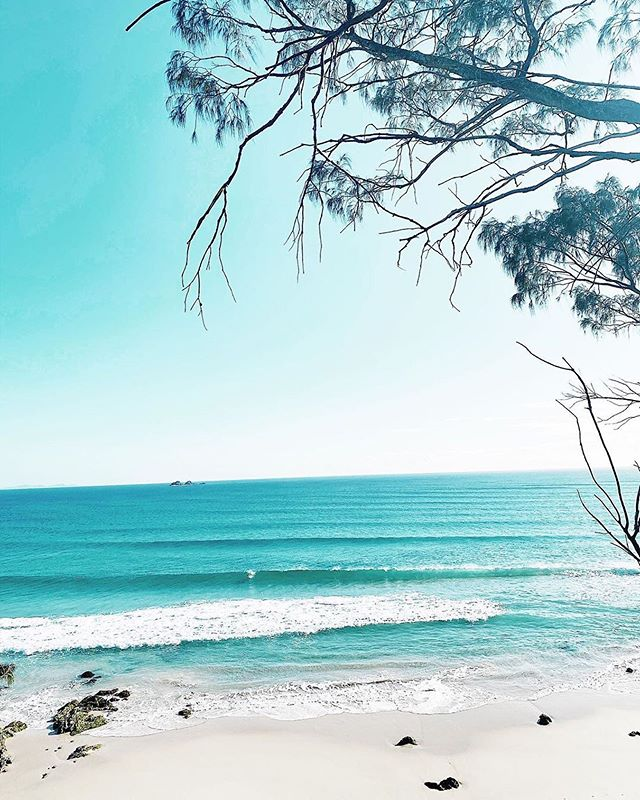sea: (1, 477, 640, 742)
sky: (1, 37, 618, 471)
tree: (188, 1, 640, 291)
